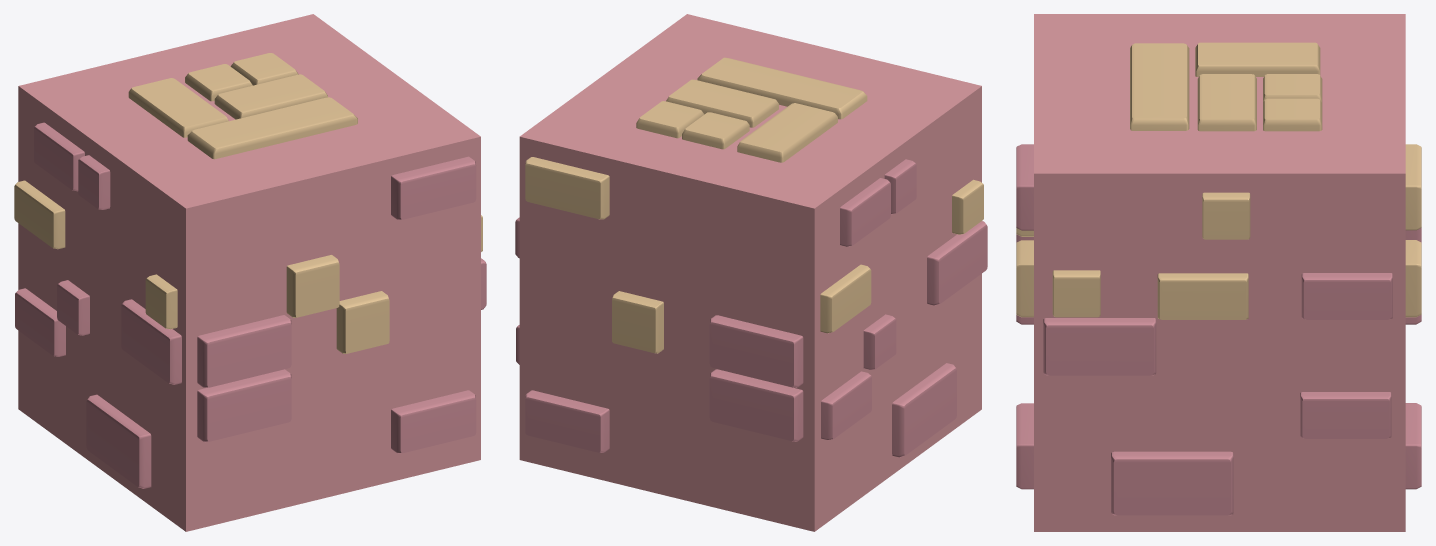
Rendered from wall-red.fbx.
3 renders of one model, left to right at view 1: azimuth 30°, elevation 25°; view 2: azimuth 150°, elevation 25°; view 3: azimuth 270°, elevation 25°, orthographic. The views are drawn at different scales.
Parts seen in each view (by area): view 1: polySurface61; view 2: polySurface61; view 3: polySurface61.
Boxes of the visible parts, <box> form: polySurface61: <box>14,14,486,531</box>; polySurface61: <box>515,14,987,531</box>; polySurface61: <box>1016,14,1421,531</box>.
Bounding box in the file's own units: 1.99 × 1.99 × 1.99.
